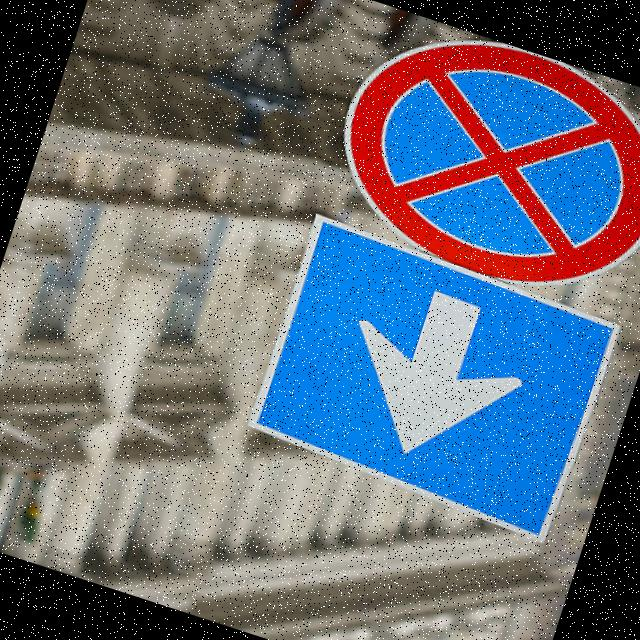no_parking: (303, 1, 640, 328)
